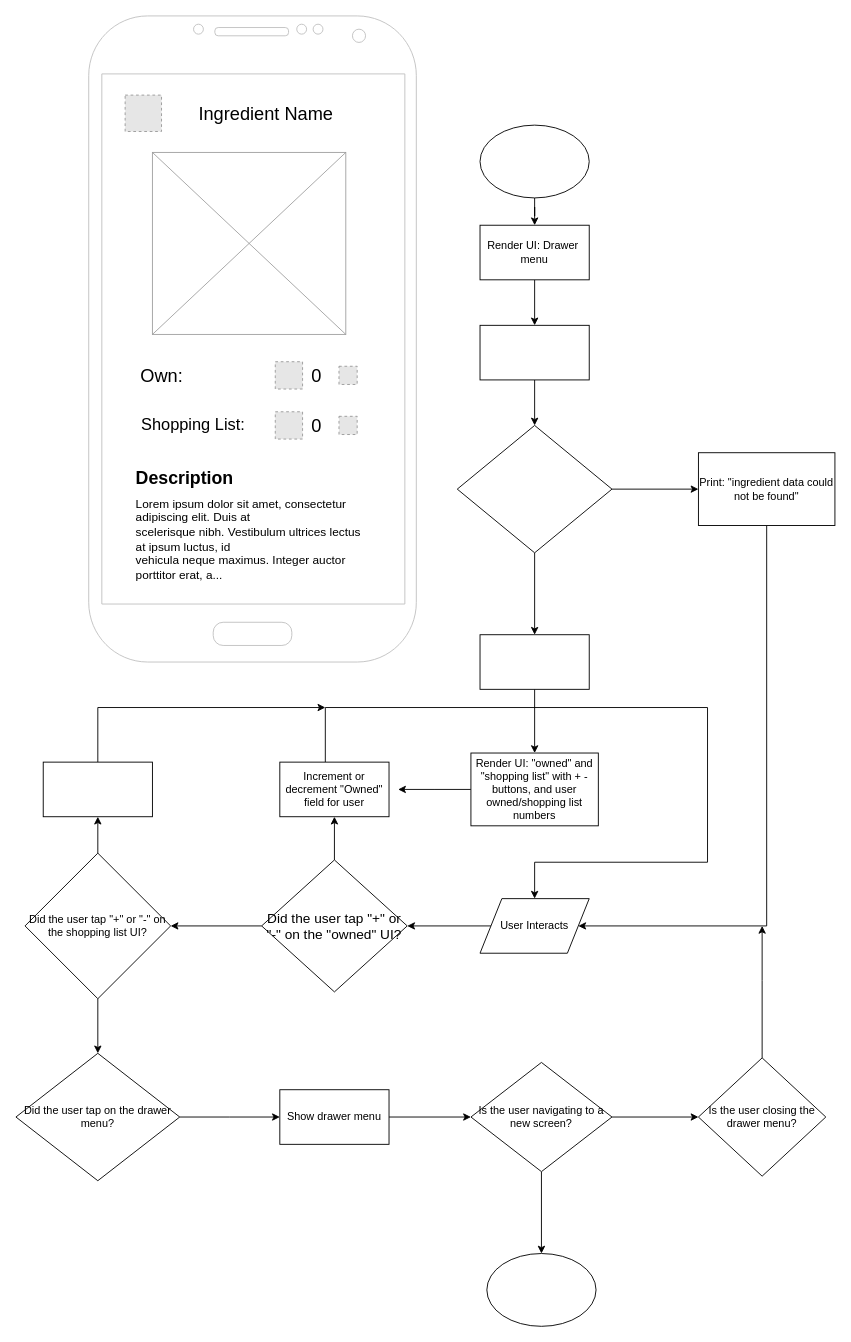
The diagram is 851 pixels wide and 1342 high, and some of its shapes have lost their labels. Grey dashed boxes stand in for pictures. The box of each missing label's shape, as (x1, y1, x2, y2) in pixels:
Go to that screen: (486, 1253, 596, 1326)
Increment or decrement "Shopping list" field for user: (42, 761, 152, 817)
Is data available?: (456, 425, 612, 553)
Render data on screen: Name, Image, Description: (479, 634, 589, 689)
Retrieve data for the requested ingredient: (479, 324, 589, 380)
Start: (479, 124, 589, 198)
